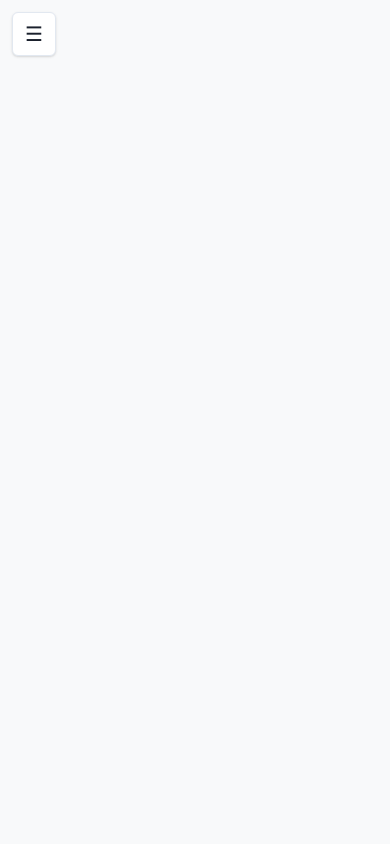
Layout › mobile menu button opens sidebar
The width and height of the screenshot is (390, 844).
Click the button named "open navigation menu" at (34, 34), box [12, 12, 56, 56]
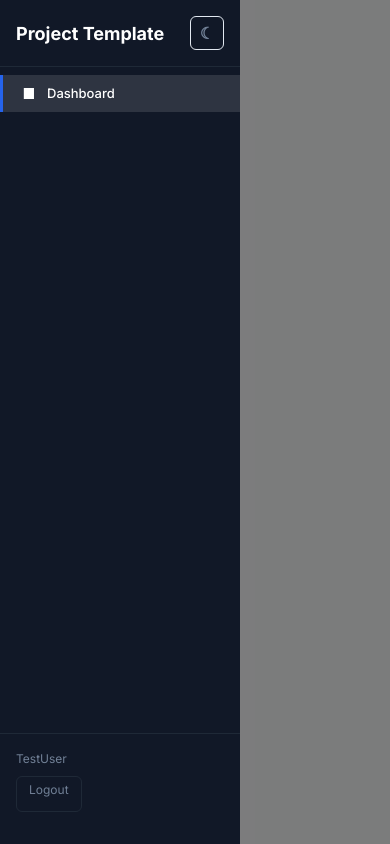
expect the button named "open navigation menu" is expanded: met, box [12, 12, 56, 56]
